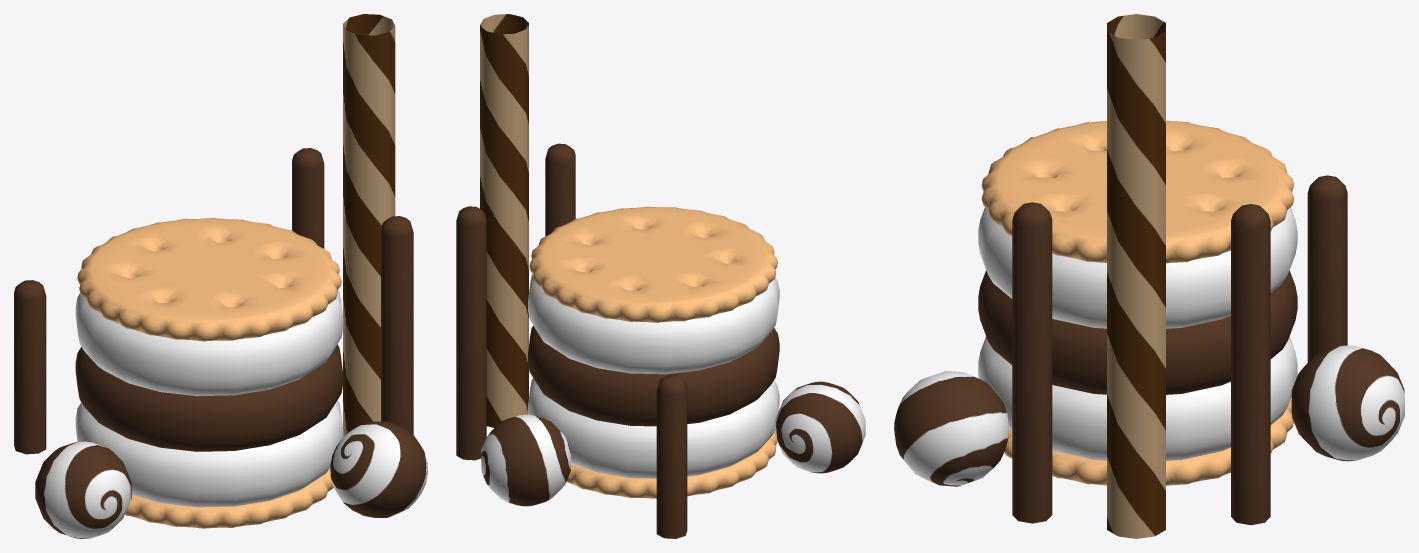
Rendered from Cake_ThemeCandy_E.FBX.
3 renders of one model, left to right at view 1: azimuth 30°, elevation 25°; view 2: azimuth 150°, elevation 25°; view 3: azimuth 270°, elevation 25°, orthographic. The views are drawn at different scales.
Parts seen in each view (by area): view 1: Cake_ThemeCandy_E; view 2: Cake_ThemeCandy_E; view 3: Cake_ThemeCandy_E.
Part boxes in pixels (left/top/right/bottom): Cake_ThemeCandy_E: left=14, top=14, right=427, bottom=538; Cake_ThemeCandy_E: left=456, top=14, right=865, bottom=538; Cake_ThemeCandy_E: left=894, top=14, right=1404, bottom=538.
Size of the model in its own units: 98197 by 105147 by 97604.
